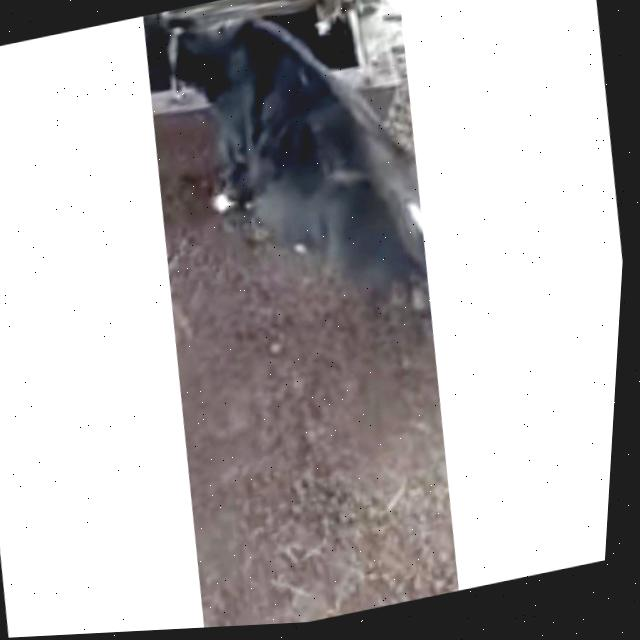drink: (136, 0, 352, 133)
